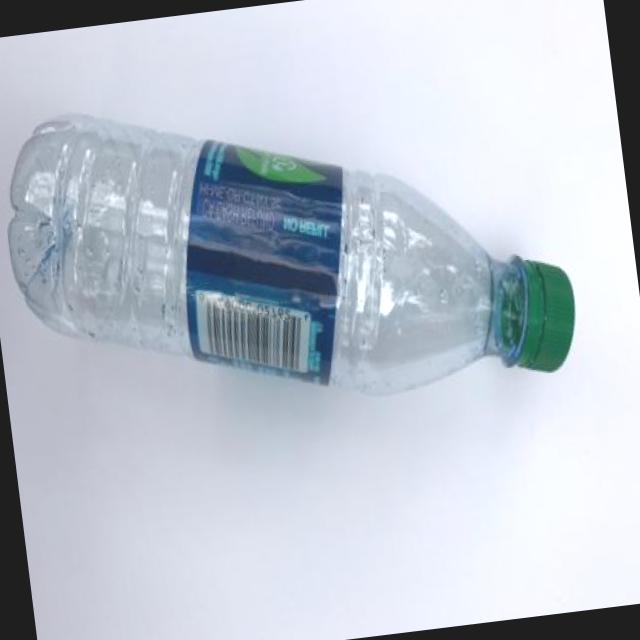bottle: (8, 116, 573, 393)
plastic: (8, 116, 202, 355), (518, 261, 573, 372)
